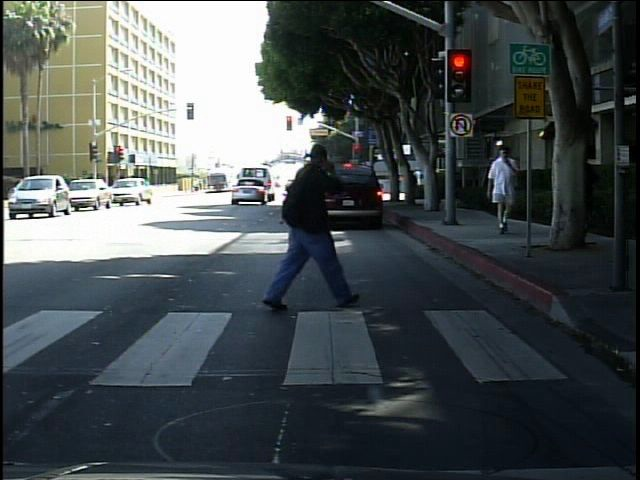person: (248, 124, 360, 338), (483, 144, 526, 238), (568, 137, 602, 245)
